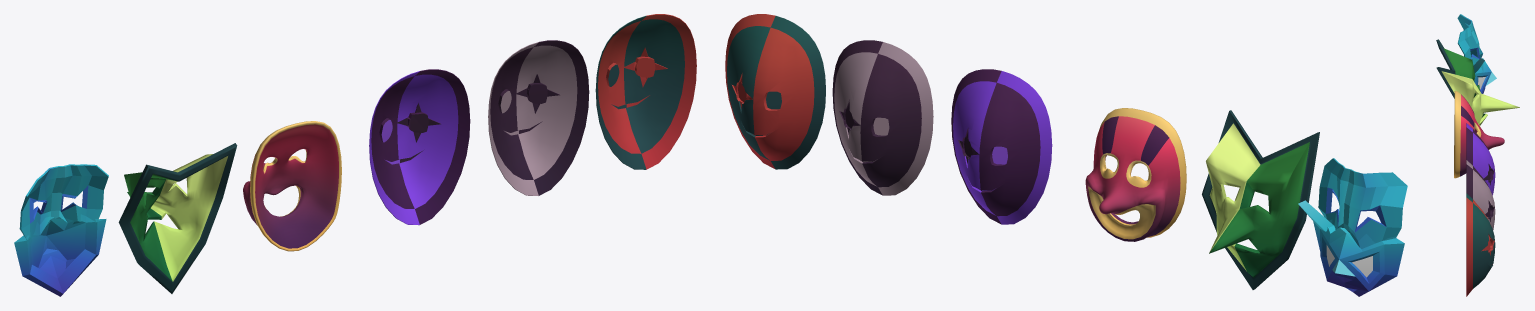
Rendered from Mask Rills.fbx.
3 views of the same model, side by side, from view 1: azimuth 30°, elevation 25°; view 2: azimuth 150°, elevation 25°; view 3: azimuth 270°, elevation 25° (orthographic). The views are drawn at different scales.
Visible parts, largest first — view 1: Mask Jahat 3, Mask Jahat 1, Mask Jahat 2, Mask 2, Mask 1, Mask 3; view 2: Mask Jahat 3, Mask Jahat 1, Mask Jahat 2, Mask 2, Mask 1, Mask 3; view 3: Mask 2, Mask Jahat 3, Mask 1, Mask 3, Mask Jahat 1, Mask Jahat 2.
Part boxes in pixels (x1,y1,x2,y2): Mask Jahat 3: [595, 14, 696, 169]; Mask Jahat 1: [369, 69, 470, 225]; Mask Jahat 2: [488, 40, 589, 195]; Mask 2: [118, 143, 237, 293]; Mask 1: [243, 121, 341, 251]; Mask 3: [14, 164, 108, 296]; Mask Jahat 3: [725, 14, 825, 169]; Mask Jahat 1: [951, 69, 1052, 224]; Mask Jahat 2: [832, 40, 933, 195]; Mask 2: [1202, 110, 1319, 289]; Mask 1: [1085, 108, 1186, 241]; Mask 3: [1298, 158, 1407, 296]; Mask 2: [1436, 39, 1519, 125]; Mask Jahat 3: [1466, 193, 1495, 296]; Mask 1: [1454, 91, 1504, 178]; Mask 3: [1457, 14, 1496, 93]; Mask Jahat 1: [1466, 123, 1495, 195]; Mask Jahat 2: [1466, 160, 1495, 230].
Size of the model in its own units: 1337 by 300 by 226.
Materials: 2 (2 with a texture image).
